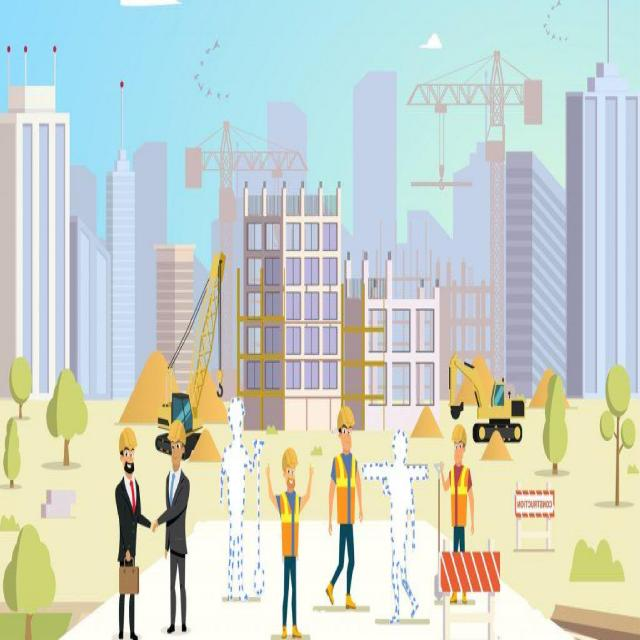Reflective-Jacket: (332, 452, 358, 524), (278, 488, 300, 559), (449, 463, 472, 530)
Safety-Helmet: (335, 402, 357, 433), (168, 417, 188, 448), (117, 425, 138, 454), (281, 442, 300, 471), (452, 422, 468, 446)
